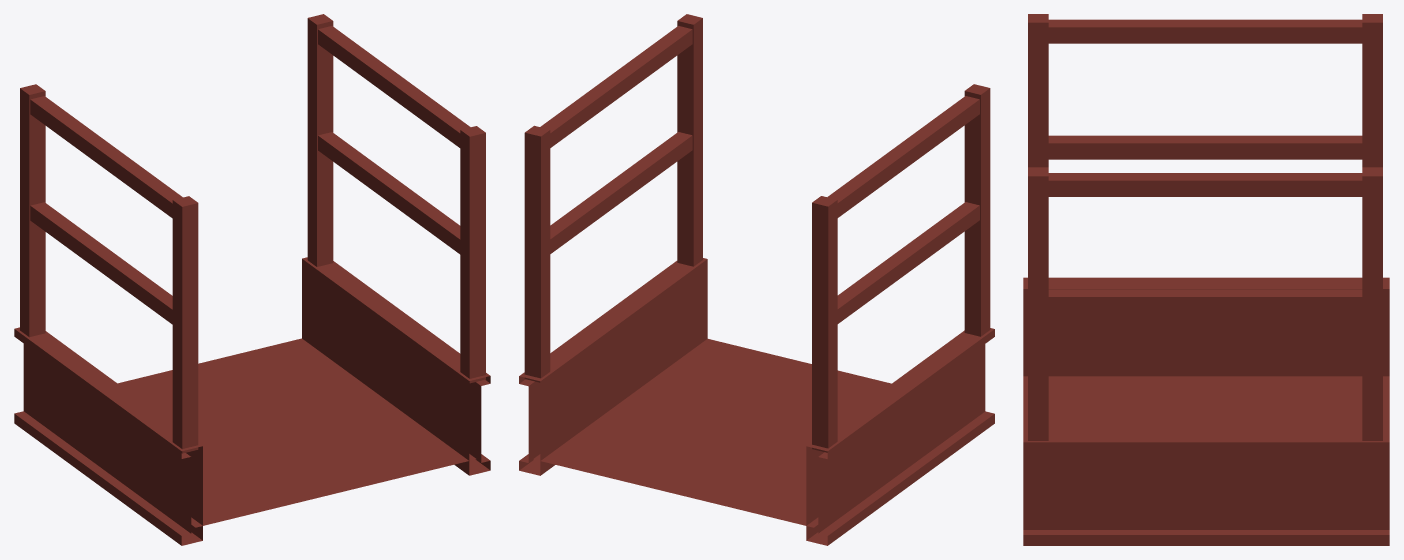
The model's file is Industrial catwalk walk way 1.fbx.
The picture shows the model from 3 angles, left to right: view 1: azimuth 30°, elevation 25°; view 2: azimuth 150°, elevation 25°; view 3: azimuth 270°, elevation 25°; orthographic projection. The views are drawn at different scales.
Parts seen in each view (by area): view 1: pCube74; view 2: pCube74; view 3: pCube74.
Boxes of the visible parts, x1=… form: pCube74: x1=14, y1=14, x2=490, y2=545; pCube74: x1=519, y1=14, x2=994, y2=545; pCube74: x1=1023, y1=14, x2=1389, y2=545.
Bounding box in the file's own units: 129 × 134 × 121.
